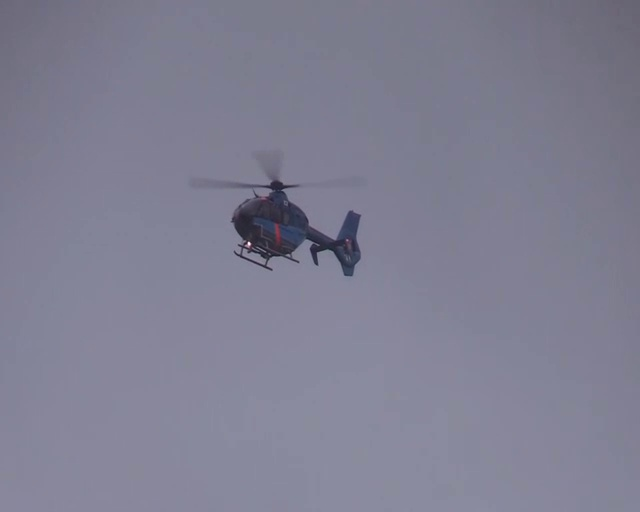HELICOPTER: (189, 147, 367, 276)
